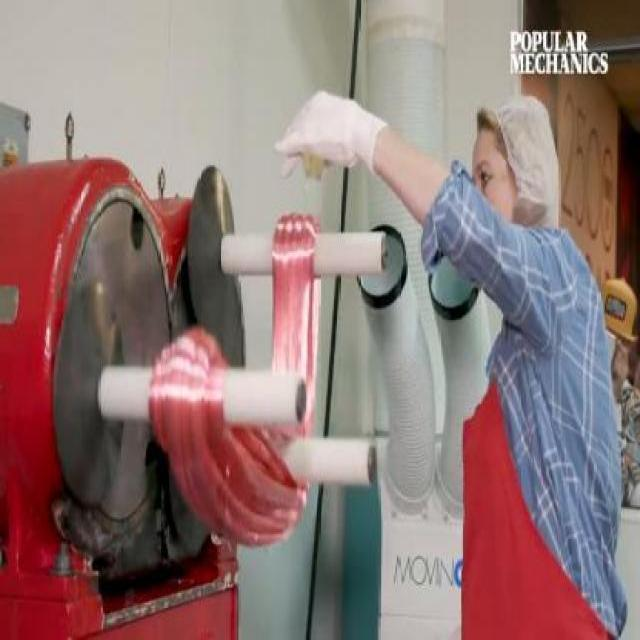gloved_hand: (279, 83, 394, 190)
